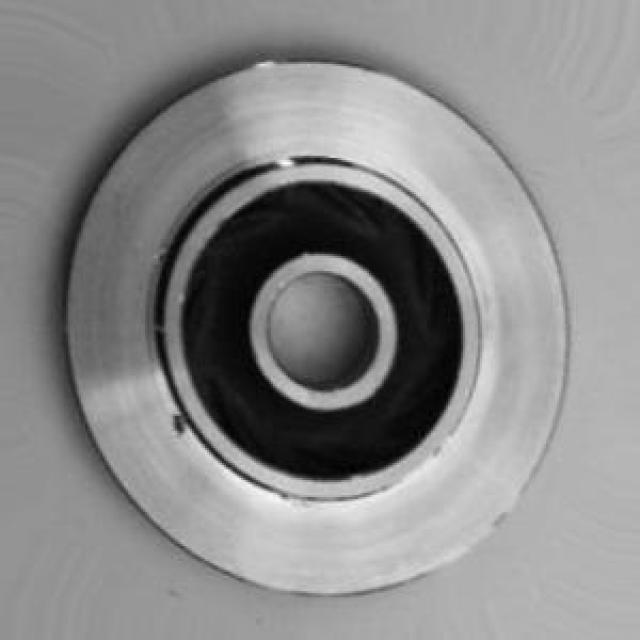Defect: (170, 413, 189, 441)
